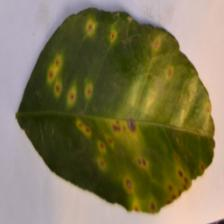canker: (46, 46, 186, 204)
